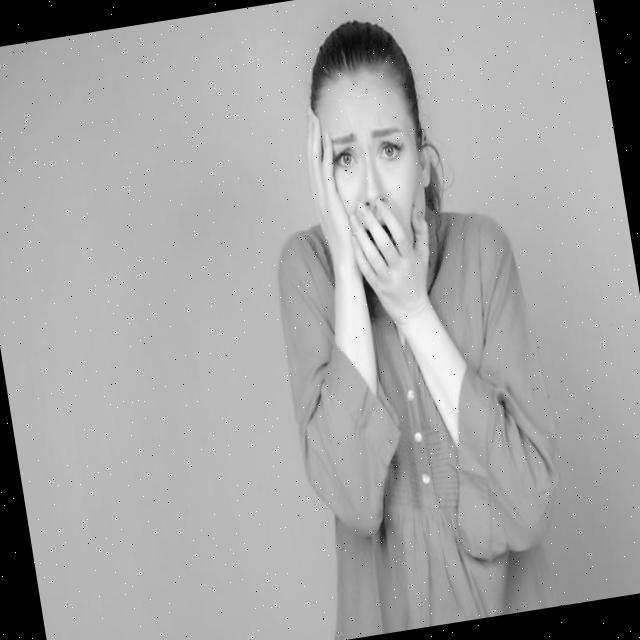Fear: (314, 68, 432, 268)
